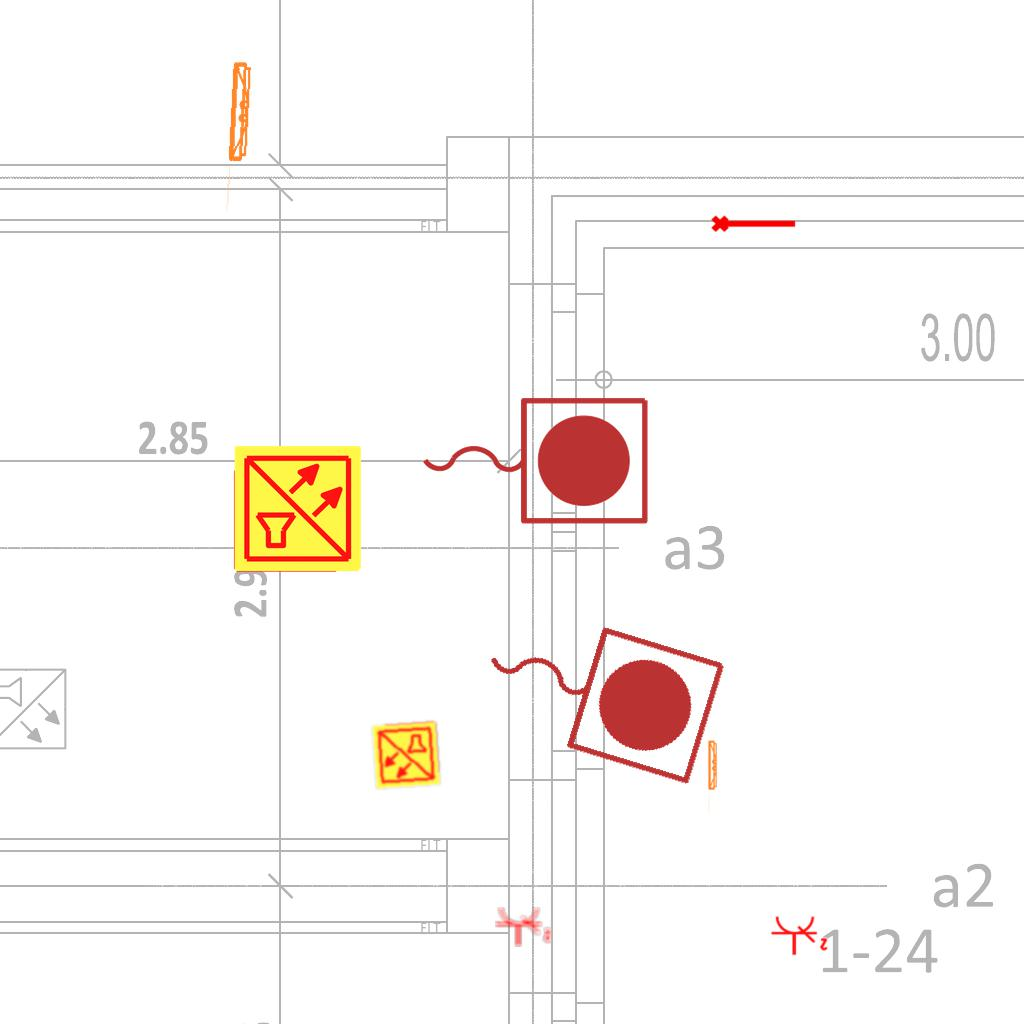ASR_Ansaugoeffnung: (710, 211, 798, 234)
OKW_Multisensormelder_(Kombination_optischer_Rauch-Kahlenmonoxid_Waerme-Melder): (232, 443, 364, 575), (370, 719, 442, 791)
Schukosteckdose_mehrfach: (769, 914, 829, 958), (493, 905, 553, 949)
Sicherheitsleuchte_Wandeinbau: (222, 56, 257, 217), (707, 738, 719, 817)
Zugtaster: (460, 584, 736, 794), (412, 387, 656, 531)
